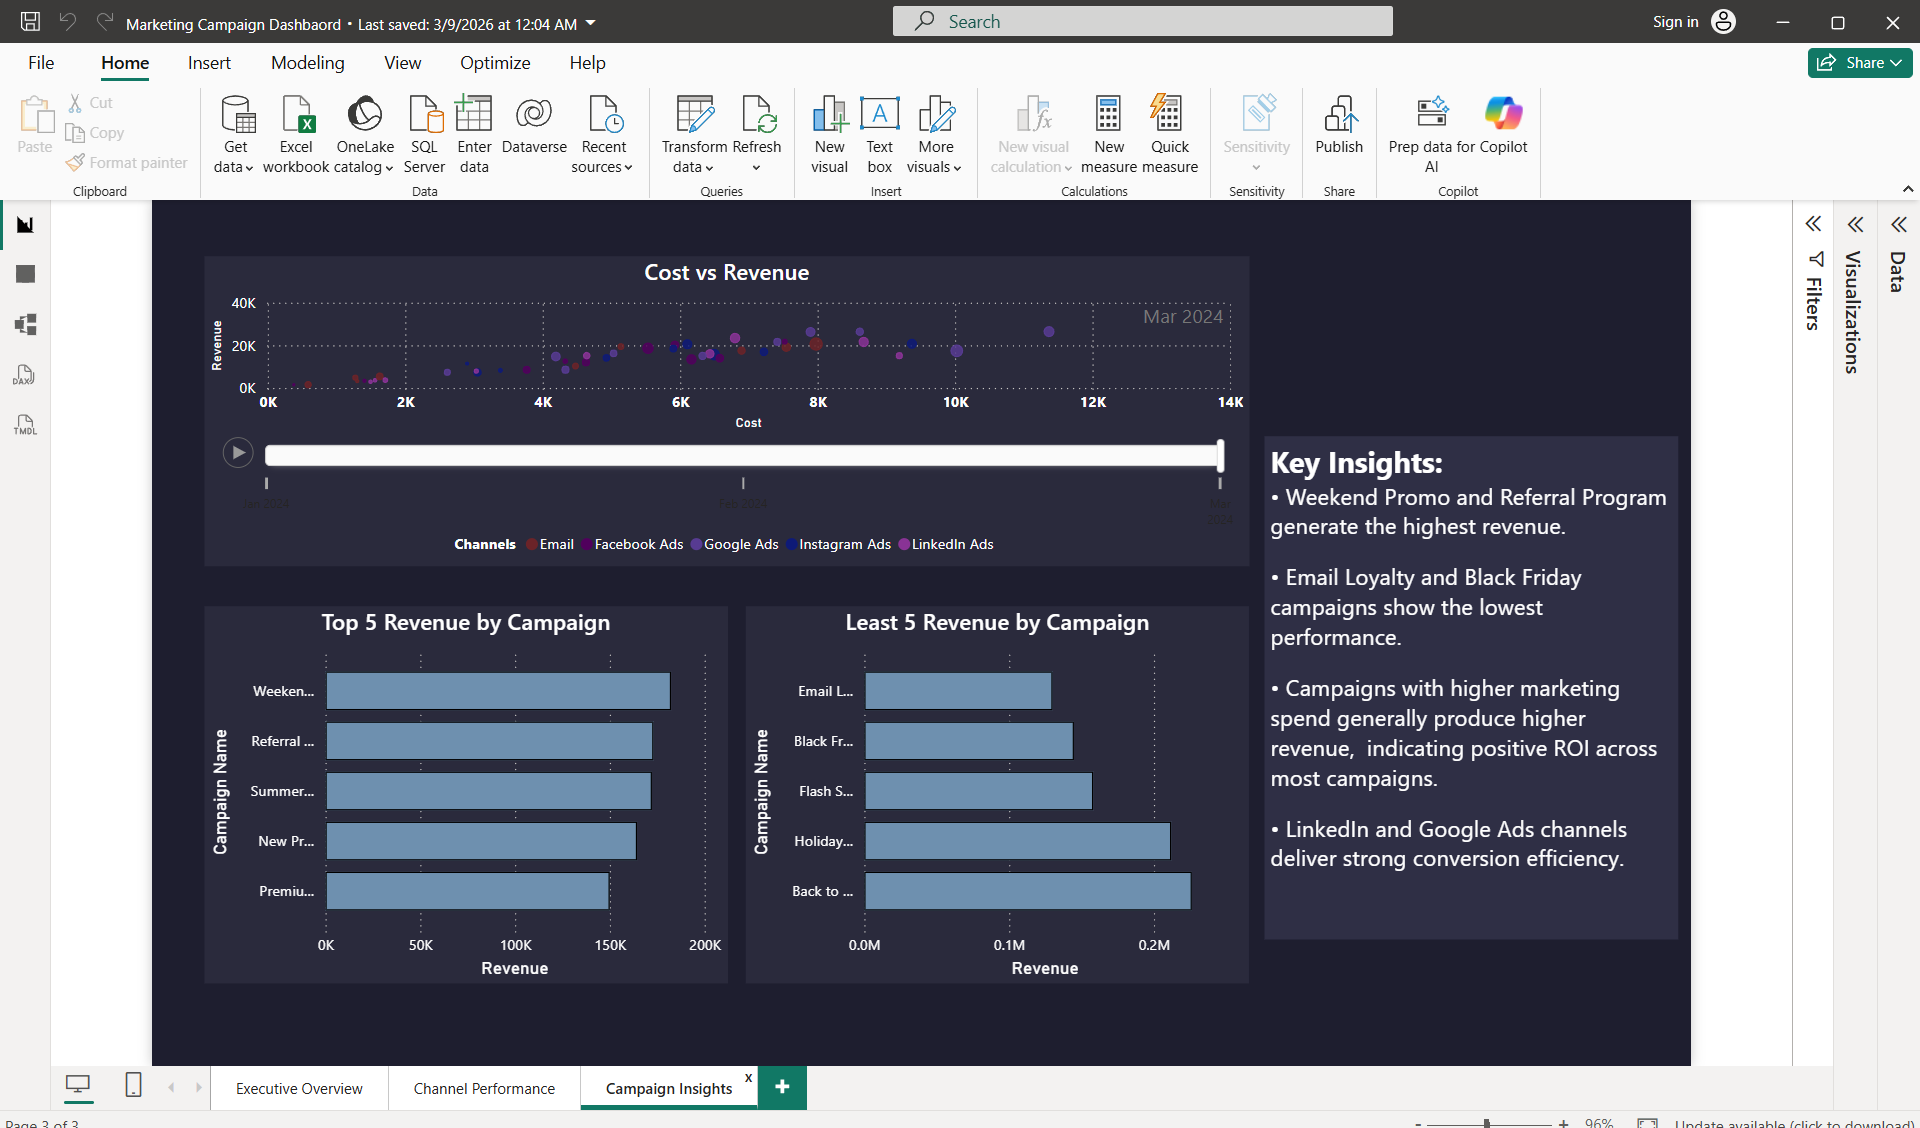

The page's visual inventory and layout, read from the dashboard file:
{"tool":"powerbi","page":{"name":"Campaign Insights","canvas":[1280,720],"ordinal":2},"visuals":[{"type":"scatterChart","title":"Cost vs Revenue","fields":{"X":["camp_performance.Total Cost"],"Y":["camp_performance.Total Revenue"],"Size":["camp_performance.Total Conversions"],"Series":["channels.channel_name"],"Category":["campaign.campaign_name"],"Play":["dates.Month Year"]},"box":[43.8,46.2,868.8,257.5],"z":0},{"type":"clusteredBarChart","title":"Top 5 Revenue by Campaign","fields":{"Y":["fact_campaign_performance.Total Revenue"],"Category":["dim_campaign.campaign_name"]},"box":[43.8,337.5,435,313.8],"z":2},{"type":"clusteredBarChart","title":"Least 5 Revenue by Campaign","fields":{"Y":["fact_campaign_performance.Total Revenue"],"Category":["dim_campaign.campaign_name"]},"box":[493.8,337.5,418.8,313.8],"z":3},{"type":"textbox","box":[925,196.2,343.8,418.8],"z":4}]}

Visuals, with their boxes on the page's 1280x720 design canvas (x1, y1, x2, y2). These are canvas units, not pixel positions in the 1920x1128 screenshot, which may show the page scaled, cropped or inside an application window:
"Cost vs Revenue" scatterChart: crop(44, 46, 913, 304)
"Top 5 Revenue by Campaign" clusteredBarChart: crop(44, 338, 479, 651)
"Least 5 Revenue by Campaign" clusteredBarChart: crop(494, 338, 913, 651)
textbox: crop(925, 196, 1269, 615)
